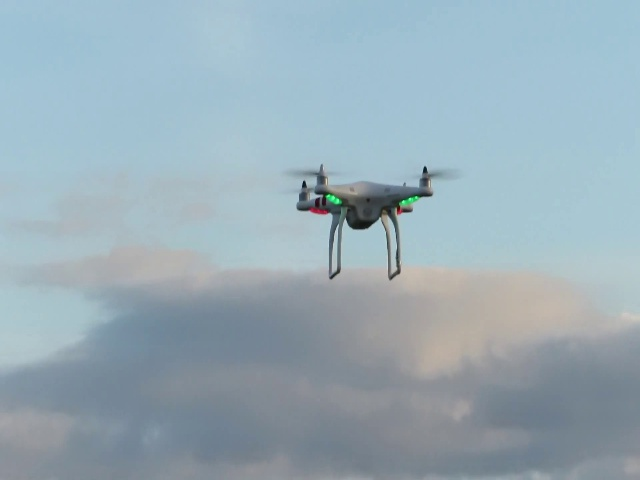drone: (277, 162, 459, 283)
